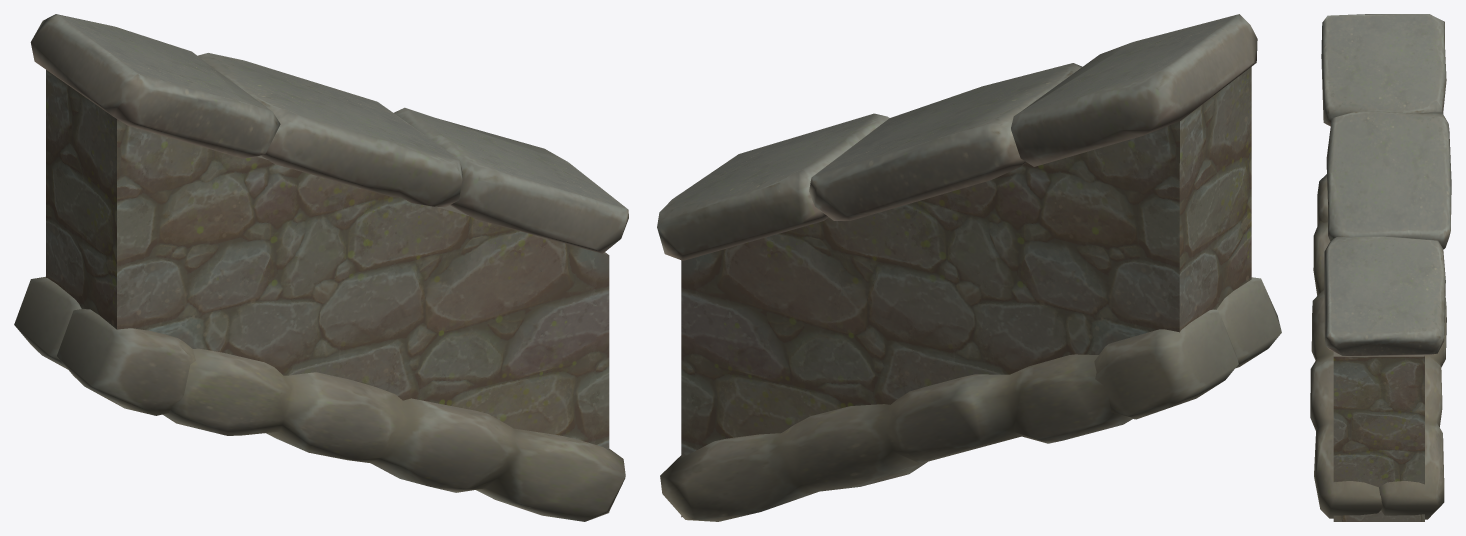
File: SM_FW01_Ruins_Int_Trim_C_Stairs_2m_02.fbx
3 renders of one model, left to right at view 1: azimuth 30°, elevation 25°; view 2: azimuth 150°, elevation 25°; view 3: azimuth 270°, elevation 25°, orthographic. The views are drawn at different scales.
Visible parts, largest first — view 1: SM_FW01_Ruins_Int_Trim_C_Stairs_2m_02, SM_FW01_Ruins_Int_Trim_C_Stairs_2m_02_LOD0; view 2: SM_FW01_Ruins_Int_Trim_C_Stairs_2m_02, SM_FW01_Ruins_Int_Trim_C_Stairs_2m_02_LOD0; view 3: SM_FW01_Ruins_Int_Trim_C_Stairs_2m_02_LOD0, SM_FW01_Ruins_Int_Trim_C_Stairs_2m_02.
Part boxes in pixels (left/top/right/bottom): SM_FW01_Ruins_Int_Trim_C_Stairs_2m_02: left=46, top=70, right=609, bottom=512; SM_FW01_Ruins_Int_Trim_C_Stairs_2m_02_LOD0: left=14, top=14, right=628, bottom=521; SM_FW01_Ruins_Int_Trim_C_Stairs_2m_02: left=681, top=67, right=1251, bottom=517; SM_FW01_Ruins_Int_Trim_C_Stairs_2m_02_LOD0: left=657, top=14, right=1281, bottom=521; SM_FW01_Ruins_Int_Trim_C_Stairs_2m_02_LOD0: left=1310, top=14, right=1451, bottom=519; SM_FW01_Ruins_Int_Trim_C_Stairs_2m_02: left=1333, top=352, right=1424, bottom=521.
Size of what is drawn, in the model's own units: 2.2 by 2.17 by 0.7757.
